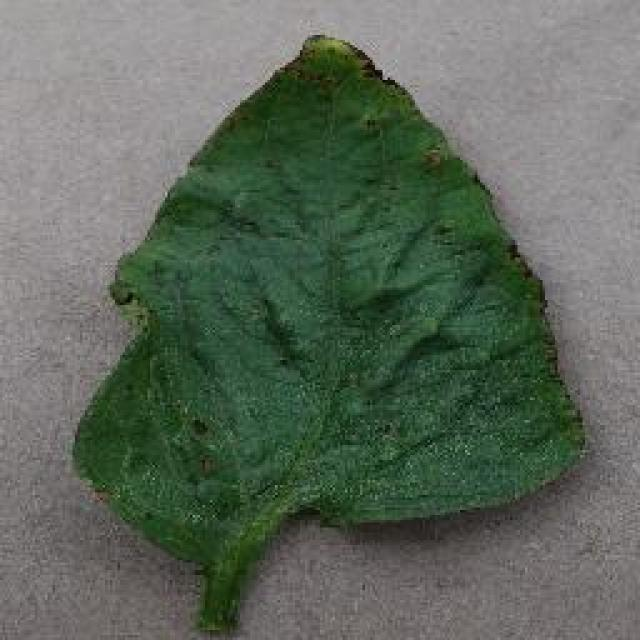Tomato___Bacterial_spot: (63, 30, 590, 634)
